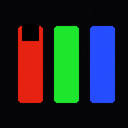1 square: (22, 24, 38, 40)
